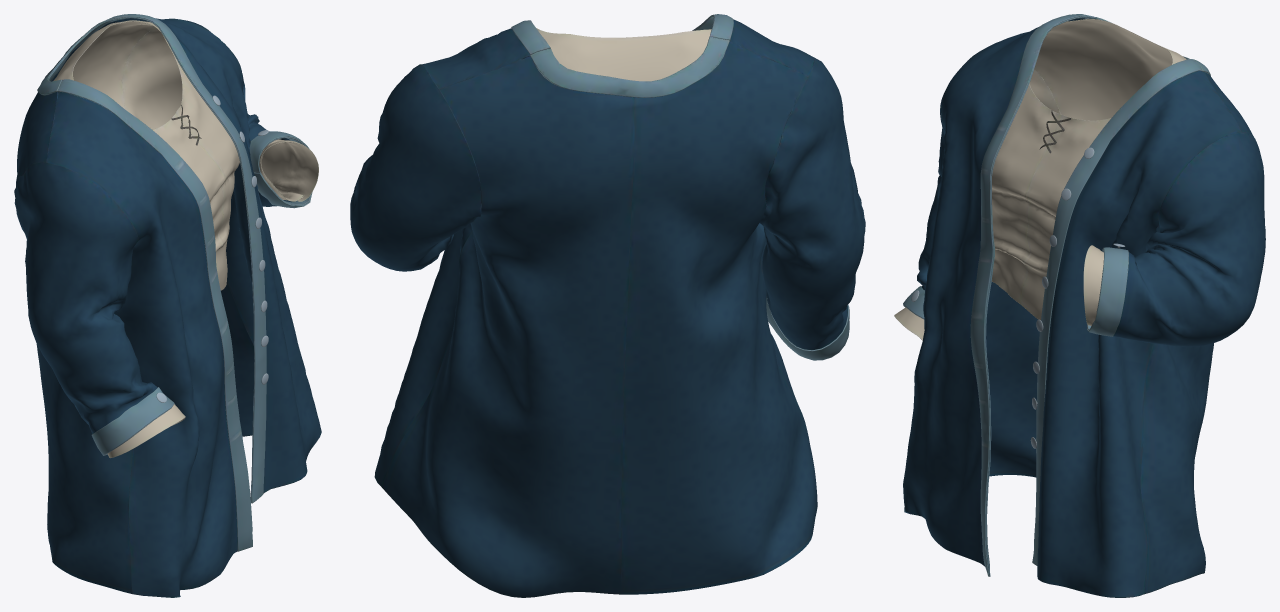
The model's file is COSSACK_CAMISOLE_1#40.glb.
3 views of the same model, side by side, from view 1: azimuth 30°, elevation 25°; view 2: azimuth 150°, elevation 25°; view 3: azimuth 270°, elevation 25° (orthographic). The views are drawn at different scales.
Parts seen in each view (by area): view 1: verx_1_lev_; view 2: verx_1_lev_; view 3: verx_1_lev_.
Part boxes in pixels (x1=…): verx_1_lev_: x1=14, y1=14, x2=321, y2=597; verx_1_lev_: x1=350, y1=14, x2=865, y2=597; verx_1_lev_: x1=894, y1=14, x2=1265, y2=597.
Bounding box in the file's own units: 4.83 × 6.43 × 4.31.
1 material, 1 textured.
